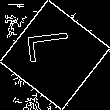L_E: (28, 36, 82, 74)
